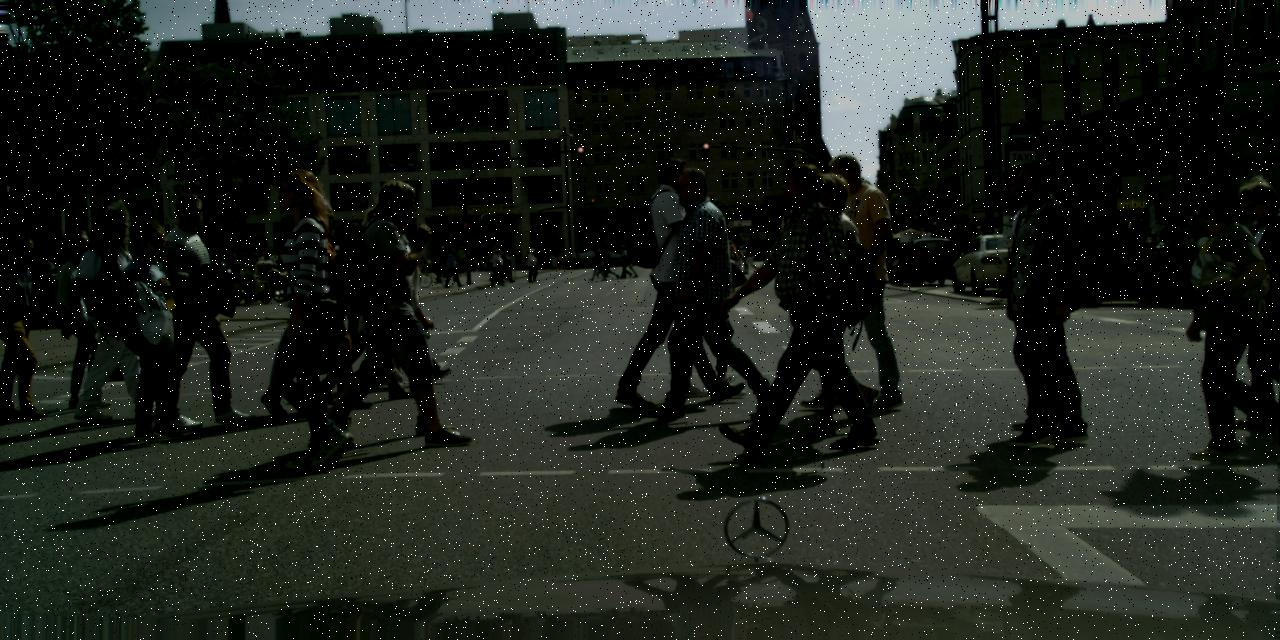ped: (247, 168, 369, 468), (744, 164, 860, 448), (985, 159, 1101, 442), (981, 166, 1088, 430), (342, 181, 449, 445), (800, 154, 904, 408), (788, 173, 891, 426), (1184, 186, 1279, 454), (628, 157, 730, 406), (655, 168, 756, 416), (152, 193, 248, 425), (78, 199, 168, 420), (272, 192, 361, 410), (112, 224, 199, 438), (1218, 174, 1279, 424), (672, 204, 750, 395), (357, 194, 434, 384), (48, 230, 121, 408), (328, 231, 398, 401), (0, 234, 61, 421), (937, 224, 984, 250), (36, 254, 54, 300), (445, 247, 461, 287), (588, 244, 604, 280), (602, 246, 618, 280), (490, 250, 504, 286), (619, 242, 633, 277), (214, 254, 228, 288), (526, 247, 538, 282), (502, 247, 514, 282), (743, 240, 756, 272), (428, 246, 440, 278), (619, 245, 631, 276), (438, 245, 450, 276), (255, 250, 267, 279), (920, 228, 931, 256), (915, 227, 926, 255), (458, 245, 468, 272), (930, 229, 940, 255), (490, 244, 500, 270), (262, 253, 272, 279), (898, 230, 908, 254), (902, 231, 912, 255), (908, 231, 918, 255), (455, 246, 465, 270), (725, 241, 734, 263), (496, 246, 505, 268), (545, 252, 556, 270), (272, 252, 282, 269), (728, 243, 736, 264), (485, 249, 493, 270), (514, 249, 522, 269), (523, 250, 530, 268), (576, 253, 584, 268), (736, 251, 742, 266), (561, 254, 567, 268), (482, 260, 487, 270), (556, 258, 560, 268), (520, 260, 524, 269), (596, 272, 600, 277)
